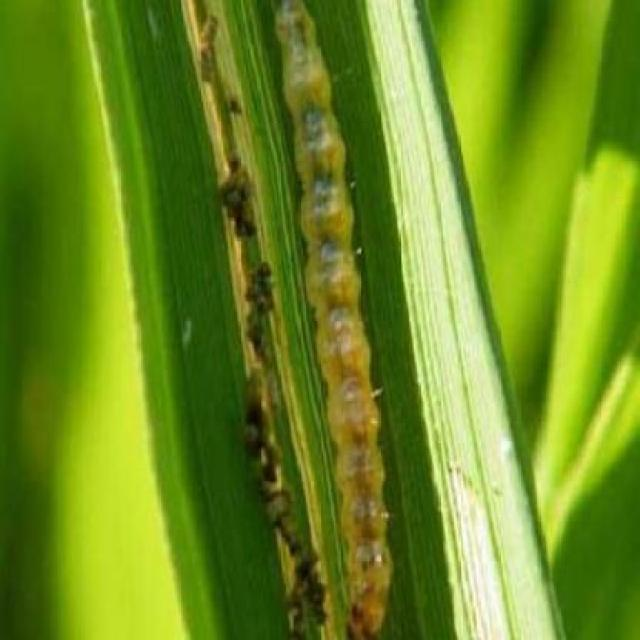leaf-folder: (238, 6, 424, 626)
